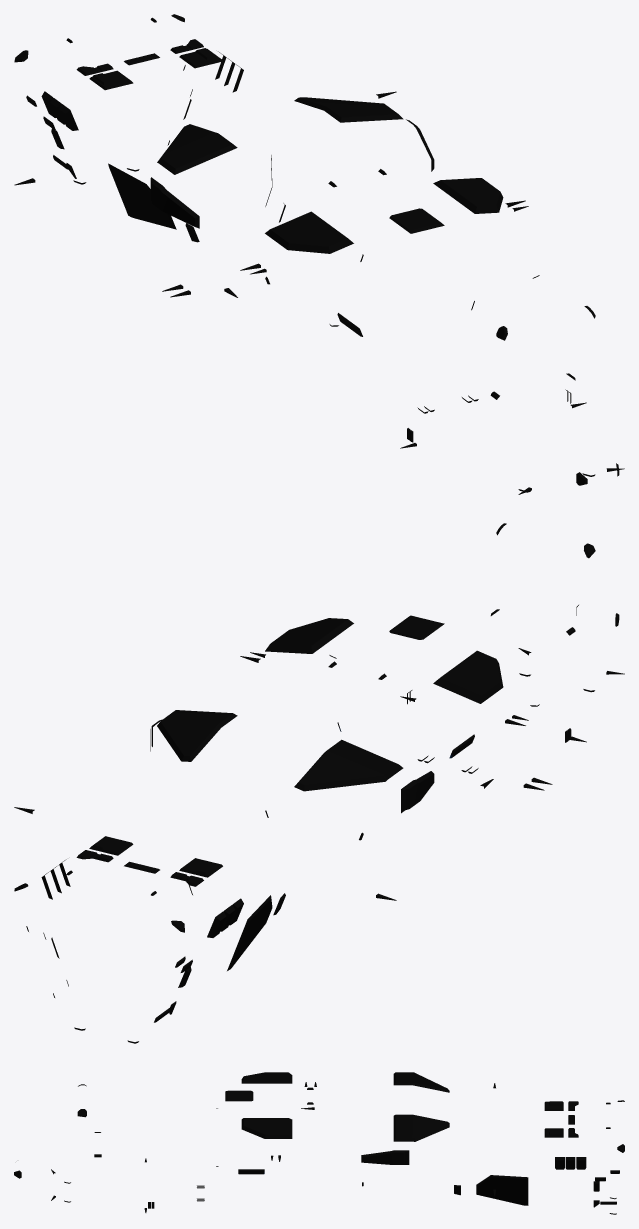
File: hgn_destroyer_01_t4.glb
3 renders of one model, top to bottom at view 1: azimuth 30°, elevation 25°; view 2: azimuth 150°, elevation 25°; view 3: azimuth 270°, elevation 25°, orthographic. The views are drawn at different scales.
Parts seen in each view (by area): view 1: hgn_destroyer_01_t4_LOD0; view 2: hgn_destroyer_01_t4_LOD0; view 3: hgn_destroyer_01_t4_LOD0.
Boxes of the visible parts, <box> form: hgn_destroyer_01_t4_LOD0: <box>14,14,624,494</box>; hgn_destroyer_01_t4_LOD0: <box>14,523,624,1043</box>; hgn_destroyer_01_t4_LOD0: <box>14,1072,624,1214</box>.
Size of what is drawn, in the model's own units: 3.65 by 1.67 by 8.35.
Materials: 1 (1 with a texture image).
